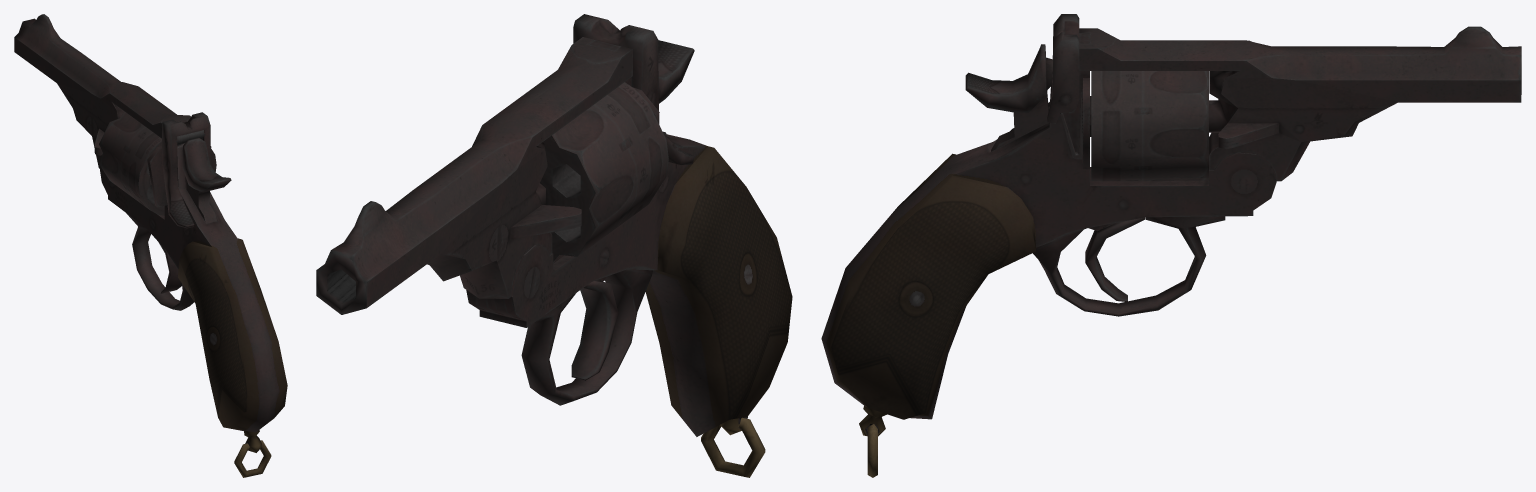
Rendered from webley_mkii.glb.
The picture shows the model from 3 angles, left to right: view 1: azimuth 30°, elevation 25°; view 2: azimuth 150°, elevation 25°; view 3: azimuth 270°, elevation 25°; orthographic projection. The views are drawn at different scales.
Parts seen in each view (by area): view 1: WebleyMkII; view 2: WebleyMkII; view 3: WebleyMkII.
Boxes of the visible parts, x1,y1,x2,y2 form: WebleyMkII: (14, 14, 287, 477); WebleyMkII: (316, 14, 792, 477); WebleyMkII: (821, 14, 1521, 477).
Size of the model in its own units: 0.0576 by 0.2169 by 0.3097.
1 material, 1 textured.
